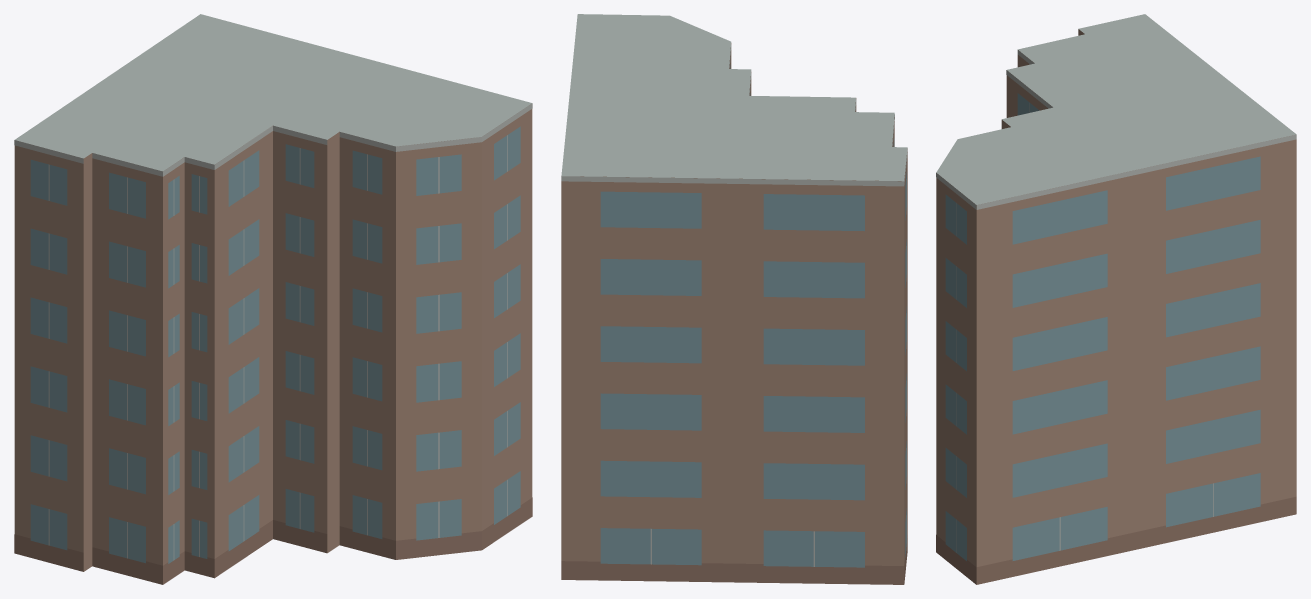
Rendered from survey-upis-32766132.glb.
3 renders of one model, left to right at view 1: azimuth 30°, elevation 25°; view 2: azimuth 150°, elevation 25°; view 3: azimuth 270°, elevation 25°, orthographic. The views are drawn at different scales.
Visible parts, largest first — view 1: survey-upis-32766132.tmp; view 2: survey-upis-32766132.tmp; view 3: survey-upis-32766132.tmp.
Part boxes in pixels (left/top/right/bottom): survey-upis-32766132.tmp: left=14, top=14, right=532, bottom=584; survey-upis-32766132.tmp: left=561, top=14, right=907, bottom=584; survey-upis-32766132.tmp: left=936, top=14, right=1296, bottom=584.
Bounding box in the file's own units: 20.22 × 18.73 × 16.12.
